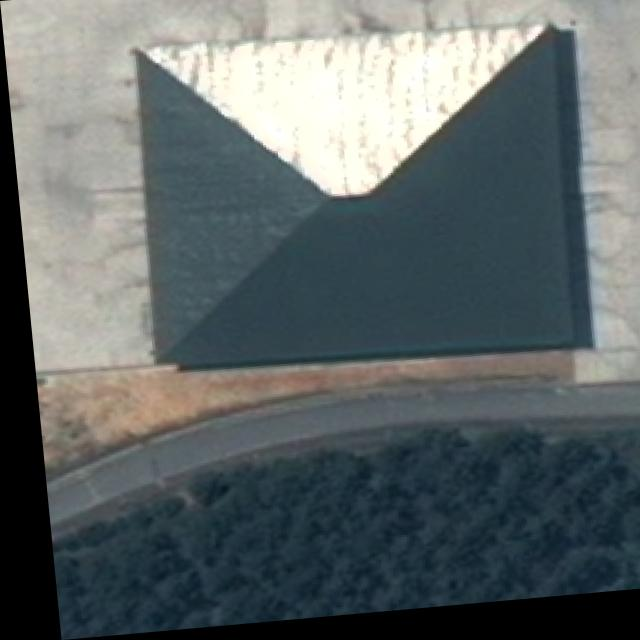Batiment: (136, 35, 582, 371)
